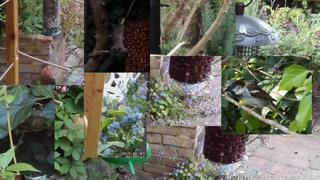mouse: (110, 24, 126, 53)
sparrow: (223, 80, 288, 121)
